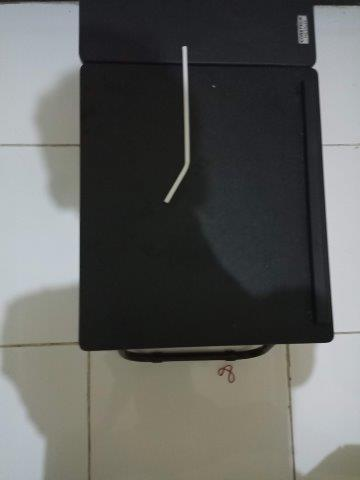karet: (218, 365, 236, 384)
sedotan: (163, 46, 190, 204)
